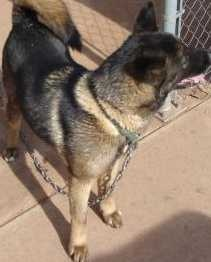dog: (0, 4, 211, 249)
